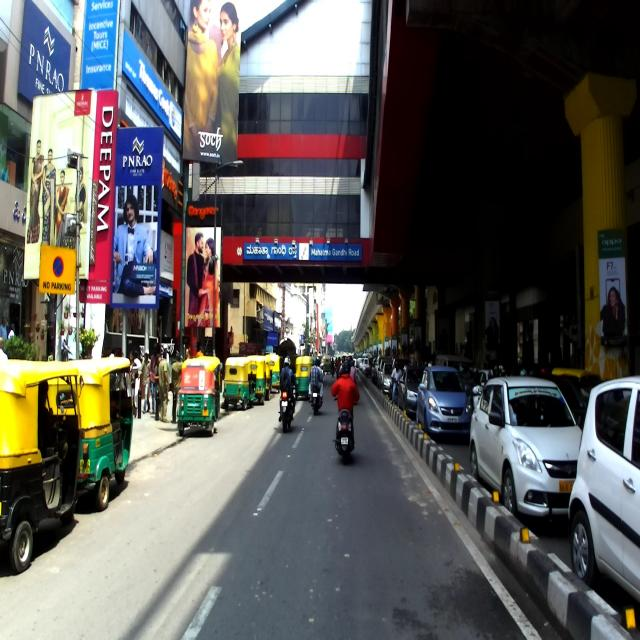Car_Maruti-Suzuki: (568, 376, 640, 613), (469, 377, 583, 518), (416, 366, 473, 440)
autorickshaw: (0, 359, 83, 574), (67, 356, 135, 509), (176, 356, 222, 438)
motorcycle_bajaj: (278, 382, 297, 432)
scooter: (334, 396, 358, 464)
